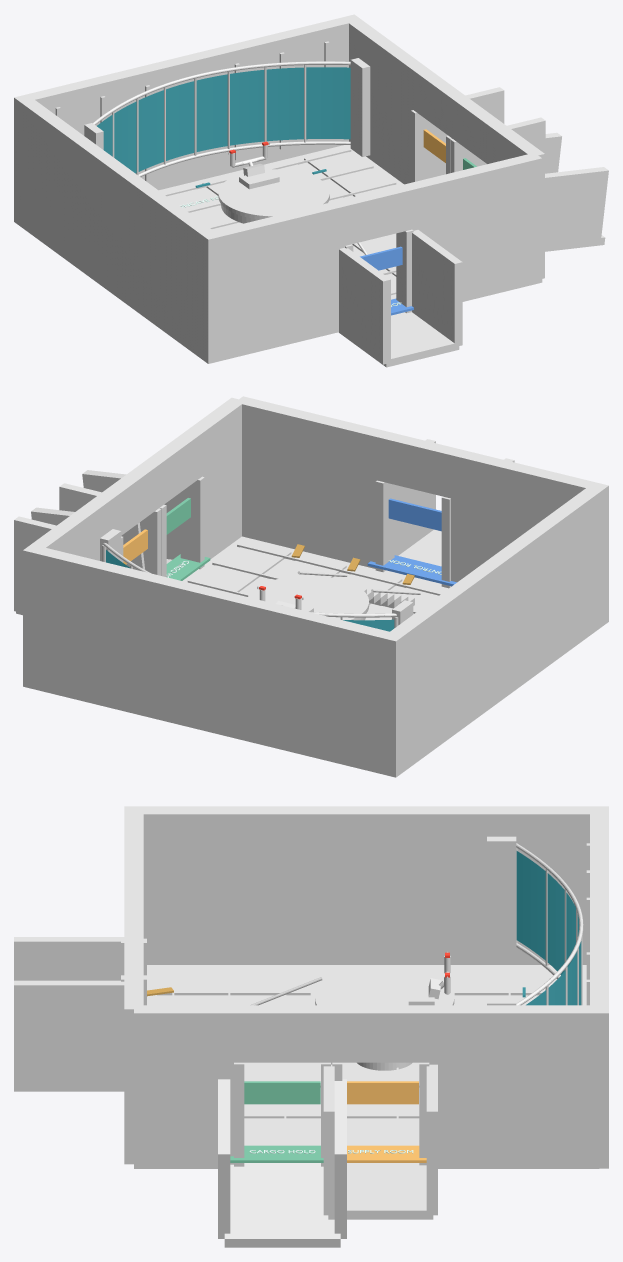
File: armory_shell.glb
The picture shows the model from 3 angles, top to bottom: view 1: azimuth 30°, elevation 25°; view 2: azimuth 150°, elevation 25°; view 3: azimuth 270°, elevation 25°; orthographic projection. The views are drawn at different scales.
Visible parts, largest first — view 1: AR-01 west sealed armory wall, AR-06 placeholder curved forward view screen surface, AR-08 south control room left sealed wall, AR-01 solid forward curved-screen wall, AR-08 south control room right sealed wall, AR-07 AR-09 east adjacent supply and cargo sealed final wall, AR-09 cargo ramp side wall, AR-08 control room south corridor side wall -0.92, AR-08 control room south corridor side wall +0.92, AR-04 placeholder platform safety rim, AR-07 AR-09 east adjacent supply and cargo supply room doorw (×2), AR-08 south control room doorway upper header (+14 smaller); view 2: AR-01 solid forward curved-screen wall, AR-01 west sealed armory wall, AR-08 south control room right sealed wall, AR-08 south control room left sealed wall, AR-07 AR-09 east adjacent supply and cargo sealed wall segme, AR-07 AR-09 east adjacent supply and cargo cargo hold ramp d (×2), AR-08 south control room doorway upper header, AR-07 AR-09 east adjacent supply and cargo supply room doorw (×2), AR-04 placeholder platform safety rim, AR-07 AR-09 east adjacent supply and cargo sealed final wall, armory removable floor plate +3.25, AR-01 sealed armory deck floor (+18 smaller); view 3: AR-01 west sealed armory wall, AR-07 AR-09 east adjacent supply and cargo sealed final wall, AR-07 AR-09 east adjacent supply and cargo sealed wall segme (×2), AR-08 control room south corridor side wall +0.92, AR-09 cargo hold descending ramp floor, armory removable floor plate -3.25, AR-01 solid forward curved-screen wall, AR-06 placeholder curved forward view screen surface, AR-07 AR-09 east adjacent supply and cargo cargo hold ramp d (×2), AR-07 AR-09 east adjacent supply and cargo supply room doorw (×2), AR-08 control room south corridor side wall -0.92, AR-07 supply room east corridor floor continuation (+18 smaller).
Boxes of the visible parts, <box> form: AR-01 west sealed armory wall: <box>14,94,221,363</box>; AR-06 placeholder curved forward view screen surface: <box>97,67,350,173</box>; AR-08 south control room left sealed wall: <box>211,200,348,360</box>; AR-01 solid forward curved-screen wall: <box>14,14,361,226</box>; AR-08 south control room right sealed wall: <box>401,152,542,301</box>; AR-07 AR-09 east adjacent supply and cargo sealed final wall: <box>346,18,427,184</box>; AR-09 cargo ramp side wall: <box>545,167,608,250</box>; AR-08 control room south corridor side wall -0.92: <box>339,247,390,364</box>; AR-08 control room south corridor side wall +0.92: <box>412,230,462,346</box>; AR-04 placeholder platform safety rim: <box>218,169,329,219</box>; AR-07 AR-09 east adjacent supply and cargo supply room doorw (×2): <box>411,68,462,182</box>; AR-08 south control room doorway upper header: <box>341,185,408,244</box>; AR-01 solid forward curved-screen wall: <box>23,545,404,776</box>; AR-01 west sealed armory wall: <box>381,483,608,777</box>; AR-08 south control room right sealed wall: <box>236,396,388,568</box>; AR-08 south control room left sealed wall: <box>447,448,601,586</box>; AR-07 AR-09 east adjacent supply and cargo sealed wall segme: <box>185,397,245,559</box>; AR-07 AR-09 east adjacent supply and cargo cargo hold ramp d (×2): <box>147,431,204,569</box>; AR-08 south control room doorway upper header: <box>381,432,454,497</box>; AR-07 AR-09 east adjacent supply and cargo supply room doorw (×2): <box>104,463,161,575</box>; AR-04 placeholder platform safety rim: <box>248,575,369,620</box>; AR-07 AR-09 east adjacent supply and cargo sealed final wall: <box>27,491,118,560</box>; armory removable floor plate +3.25: <box>193,541,291,592</box>; AR-01 sealed armory deck floor: <box>183,536,448,613</box>; AR-01 west sealed armory wall: <box>124,806,608,964</box>; AR-07 AR-09 east adjacent supply and cargo sealed final wall: <box>424,1005,599,1168</box>; AR-07 AR-09 east adjacent supply and cargo sealed wall segme (×2): <box>134,1005,337,1168</box>; AR-08 control room south corridor side wall +0.92: <box>14,980,124,1088</box>; AR-09 cargo hold descending ramp floor: <box>224,1163,340,1247</box>; armory removable floor plate -3.25: <box>157,969,560,995</box>; AR-01 solid forward curved-screen wall: <box>590,806,608,1168</box>; AR-06 placeholder curved forward view screen surface: <box>516,851,581,1005</box>; AR-07 AR-09 east adjacent supply and cargo cargo hold ramp d (×2): <box>234,1005,325,1166</box>; AR-07 AR-09 east adjacent supply and cargo supply room doorw (×2): <box>337,1005,429,1165</box>; AR-08 control room south corridor side wall -0.92: <box>14,937,124,980</box>; AR-07 supply room east corridor floor continuation: <box>328,1163,433,1219</box>.
Size of the model in its own units: 11.25 by 3.46 by 10.61.
